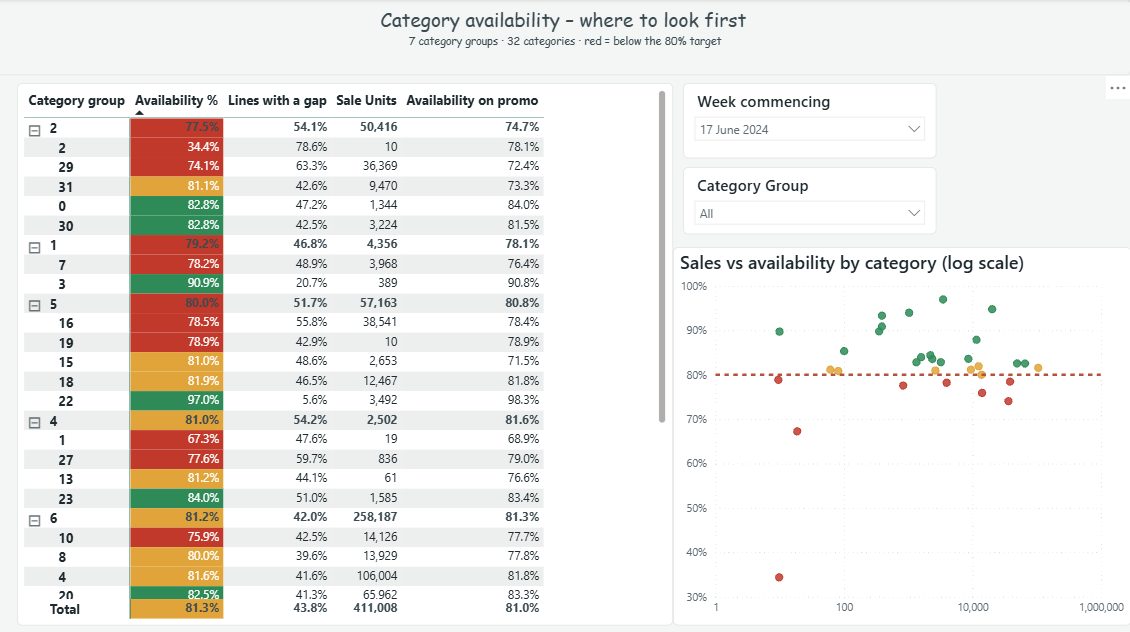

What the dashboard file says about the page in this screenshot:
{"tool":"powerbi","page":{"name":"Page 2","canvas":[1280,720],"ordinal":1},"visuals":[{"type":"slicer","fields":{"Values":["dim_date.week_start"]},"box":[774.8,94.7,286.4,84.6],"z":0},{"type":"slicer","fields":{"Values":["dim_product.management_group_id"]},"box":[774.8,189.5,286.4,75.6],"z":1000},{"type":"pivotTable","fields":{"Rows":["dim_product.management_group_id","dim_product.first_category_id"],"Values":["_Measures.Availability %","_Measures.Gap Rate %","_Measures.Sale Units","_Measures.Promo Availability %"]},"box":[24,94.7,740,612],"z":2000},{"type":"textbox","box":[0,0,1280,85.7],"z":3000},{"type":"scatterChart","title":"Sales vs availability by category (log scale)","fields":{"Category":["dim_product.first_category_id"],"X":["_Measures.Sale Units"],"Y":["_Measures.Availability %"]},"box":[763.5,279.7,516.5,427.4],"z":4000}]}

Visuals, with their boxes in screenshot pixels (x1, y1, x2, y2), scaled from the page's 1280x720 canvas onto the 1130x632 screenshot:
slicer - dim_date.week_start: select_region(684, 83, 937, 157)
slicer - dim_product.management_group_id: select_region(684, 166, 937, 233)
pivotTable - dim_product.management_group_id x dim_product.first_category_id: select_region(21, 83, 674, 620)
textbox: select_region(0, 0, 1129, 75)
"Sales vs availability by category (log scale)" scatterChart: select_region(674, 246, 1129, 621)
